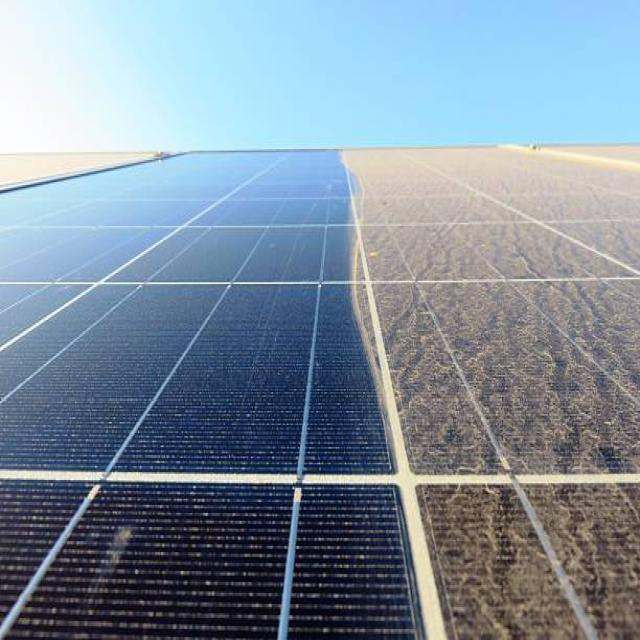Surface Contaminant: (372, 276, 639, 478), (342, 144, 637, 283), (414, 476, 639, 639), (406, 144, 639, 271)
